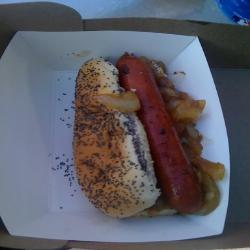hotdog: (71, 49, 219, 218)
